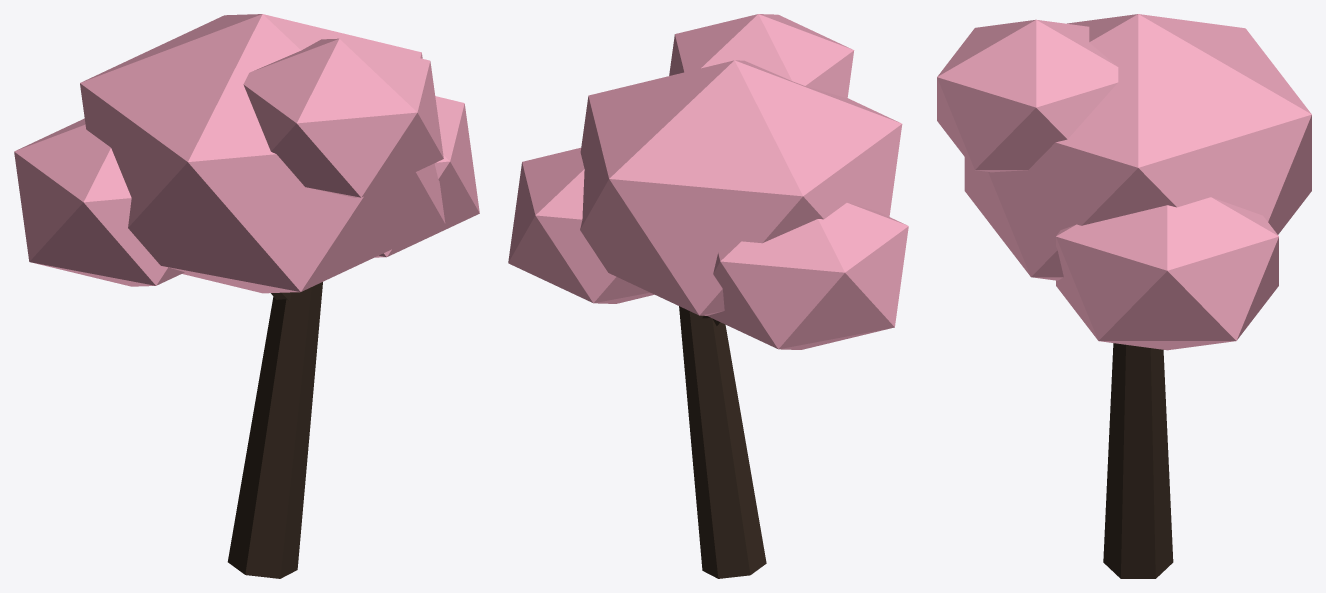
The model's file is TreeCherry.fbx.
3 renders of one model, left to right at view 1: azimuth 30°, elevation 25°; view 2: azimuth 150°, elevation 25°; view 3: azimuth 270°, elevation 25°, orthographic. The views are drawn at different scales.
Parts seen in each view (by area): view 1: TreeCherry; view 2: TreeCherry; view 3: TreeCherry.
Boxes of the visible parts, left/top/right/bottom form: TreeCherry: left=14, top=14, right=479, bottom=578; TreeCherry: left=508, top=14, right=908, bottom=578; TreeCherry: left=937, top=14, right=1311, bottom=578.
Size of the model in its own units: 1.65 by 2.11 by 1.29.
